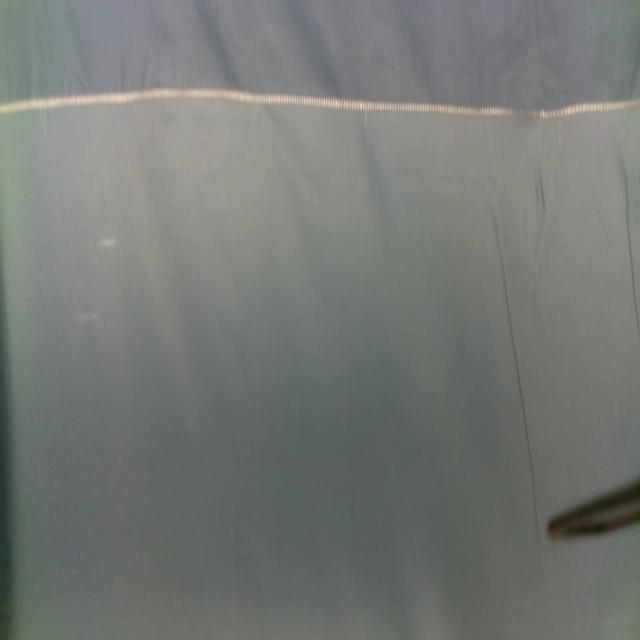crease: (496, 213, 540, 531), (623, 168, 640, 337)
